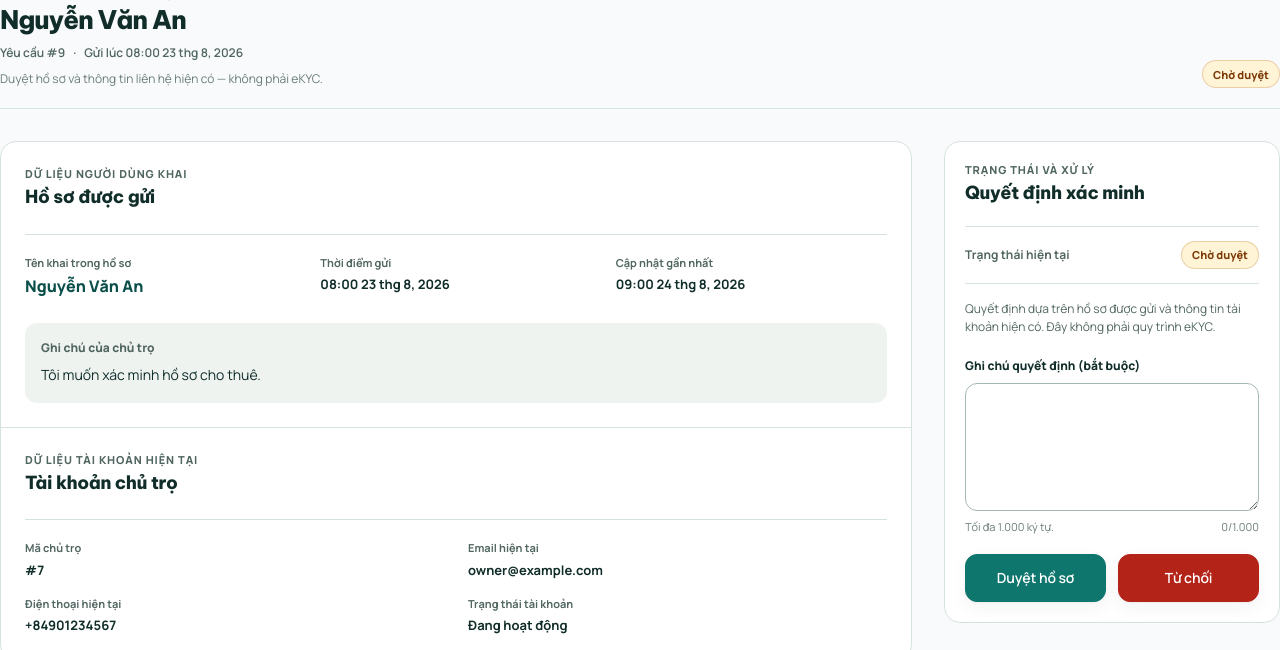
Test: AdminVerificationDetail › requires a decision note, confirms the exact action and returns after success
Expected: the heading "Nguyễn Văn An" is shown, [0, 3, 186, 36]
Click the button "Duyệt hồ sơ" at (1036, 578), box [965, 554, 1106, 602]
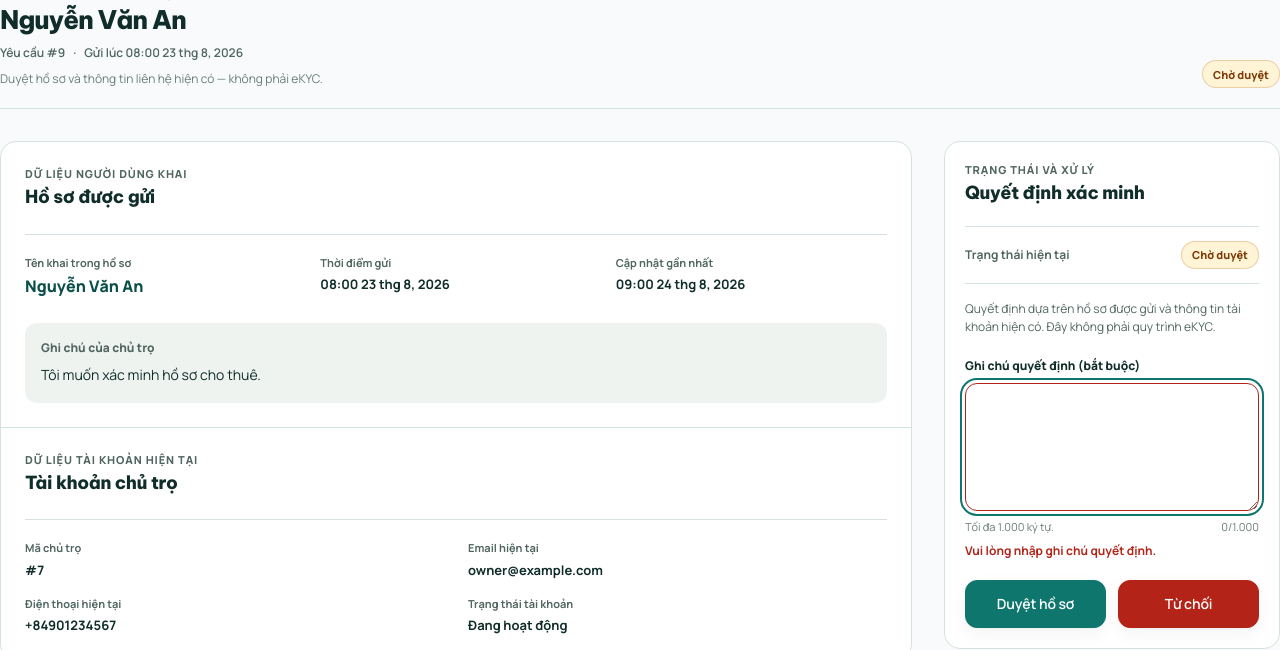
Expected: the message shows "Vui lòng nhập ghi chú quyết định", [965, 542, 1156, 559]
Type "Đã đối chiếu thông tin hiện có." into the text box labelled "Ghi chú quyết định (bắt buộc)" at (1112, 447), box [965, 383, 1259, 511]
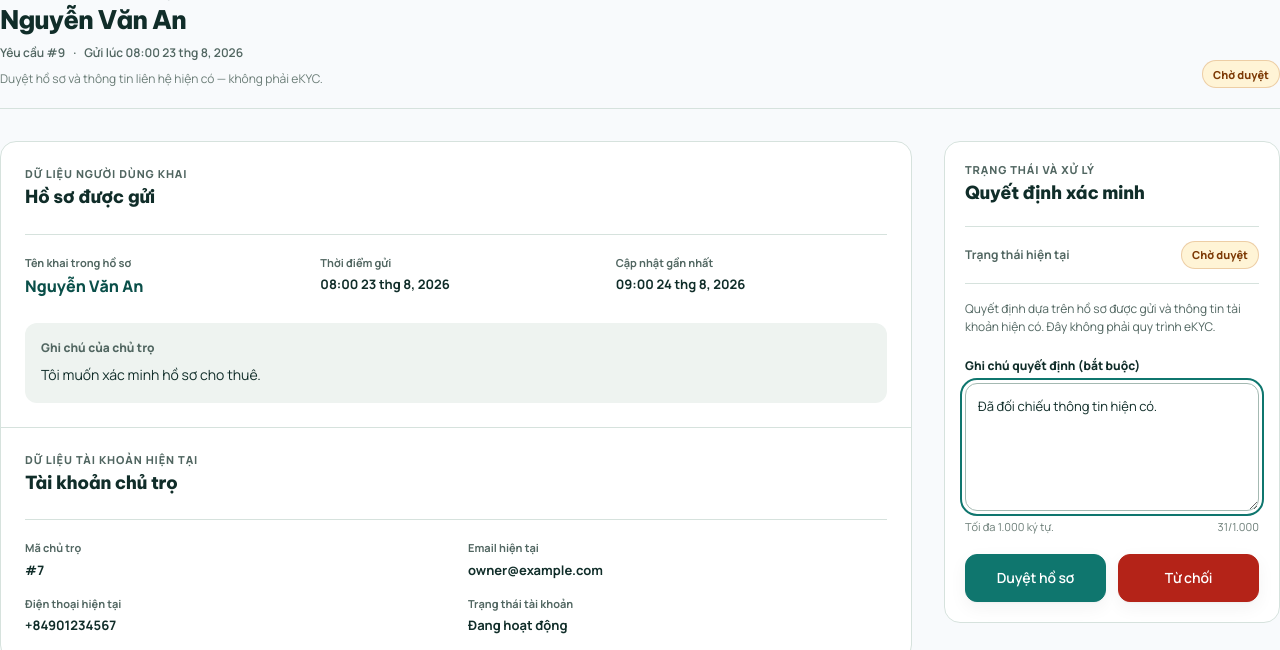
Click the button "Duyệt hồ sơ" at (1036, 578), box [965, 554, 1106, 602]
(page scrolled)
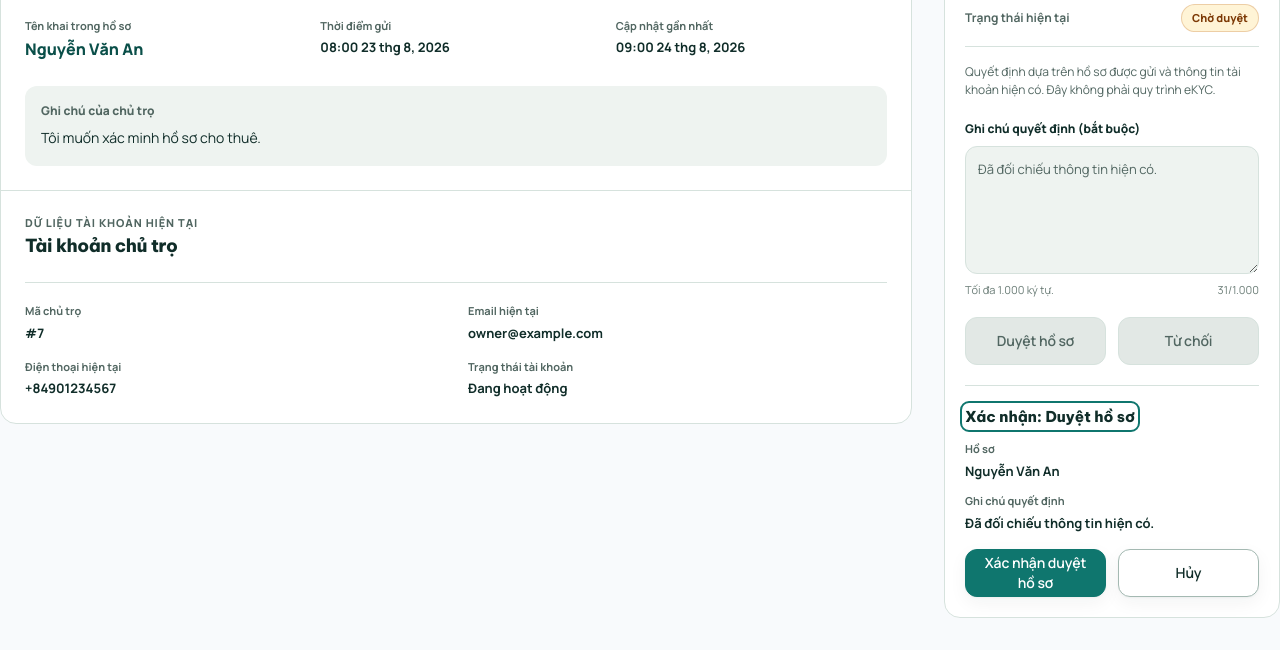
Expected: the number of text boxes "Đã đối chiếu thông tin hiện có." is 2, [965, 146, 1259, 274]; [965, 514, 1154, 532]
Expected: the text box "Đã đối chiếu thông tin hiện có." is disabled, [965, 146, 1259, 274]
Click the button "Hủy" at (1188, 573), box [1118, 549, 1259, 597]
(page scrolled)
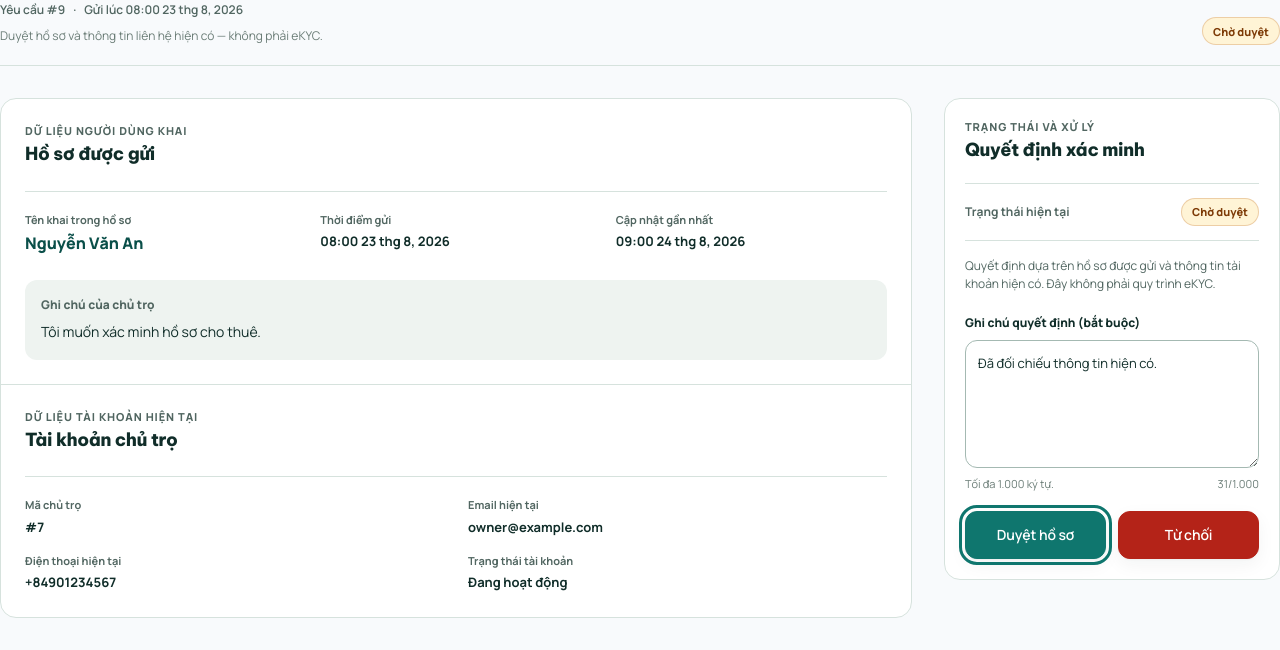
Expected: the text box "Đã đối chiếu thông tin hiện có." is enabled, [965, 340, 1259, 468]
Click the button "Duyệt hồ sơ" at (1036, 535), box [965, 511, 1106, 559]
(page scrolled)
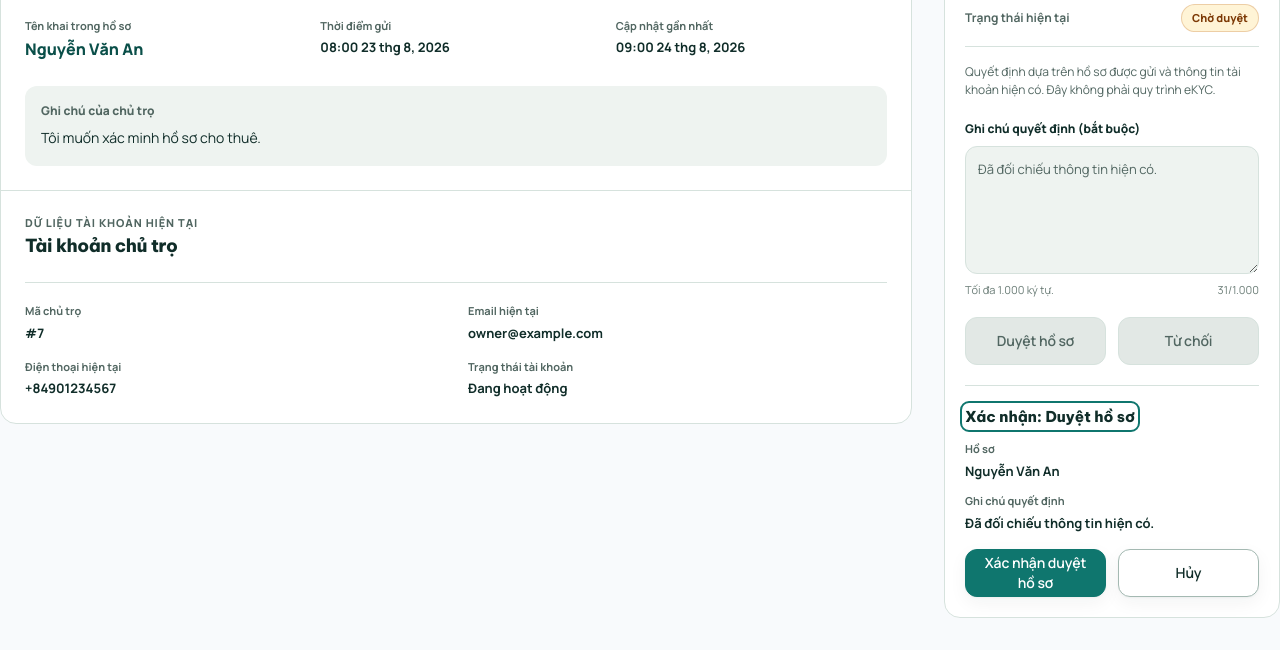
Click the button "Xác nhận duyệt hồ sơ" at (1036, 573), box [965, 549, 1106, 597]
(page scrolled)
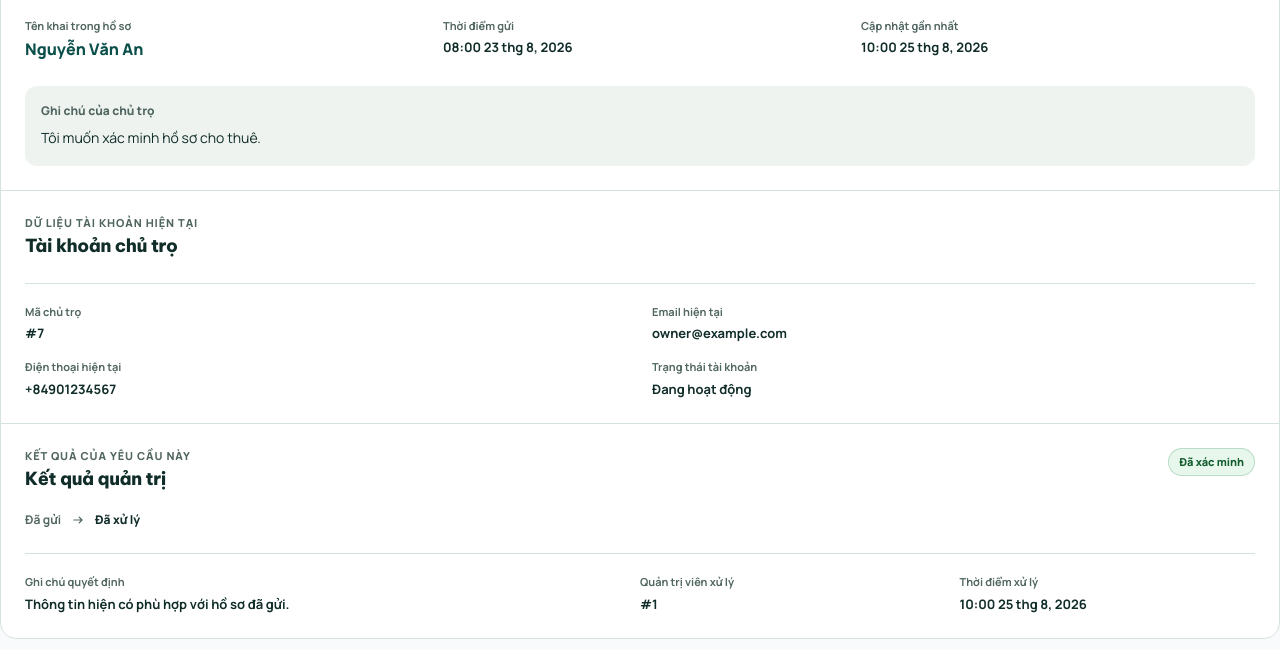
Expected: the heading "Kết quả quản trị" is shown, [25, 467, 166, 490]
Expected: the label labelled "Ghi chú quyết định (bắt buộc)" is gone
